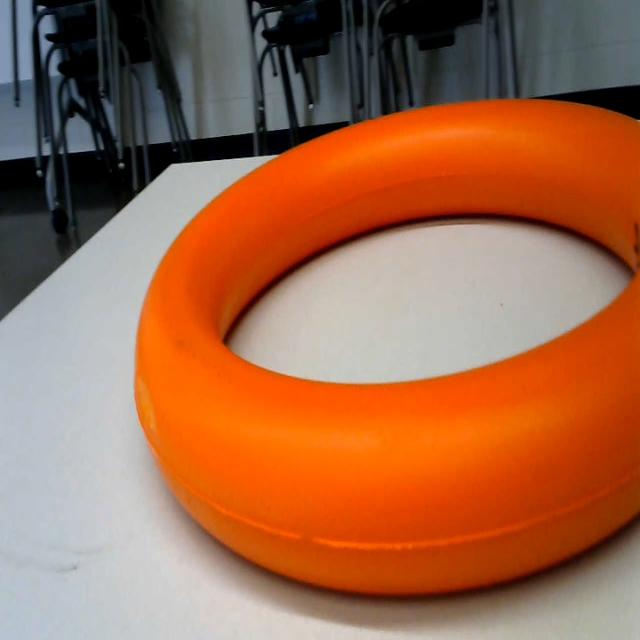note: (129, 84, 640, 620)
